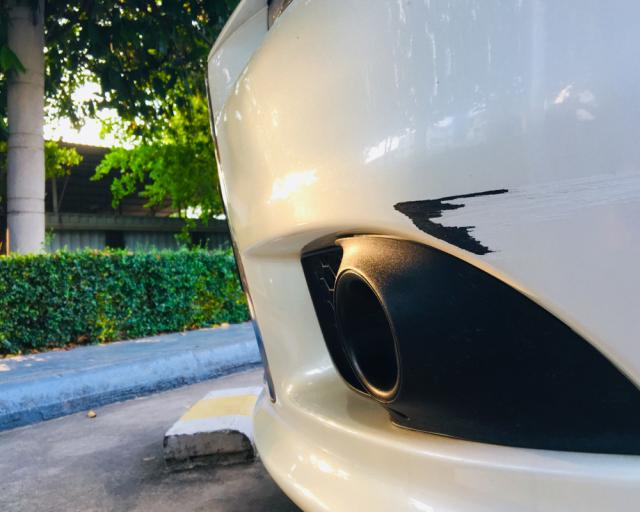scratch: (388, 171, 640, 259)
